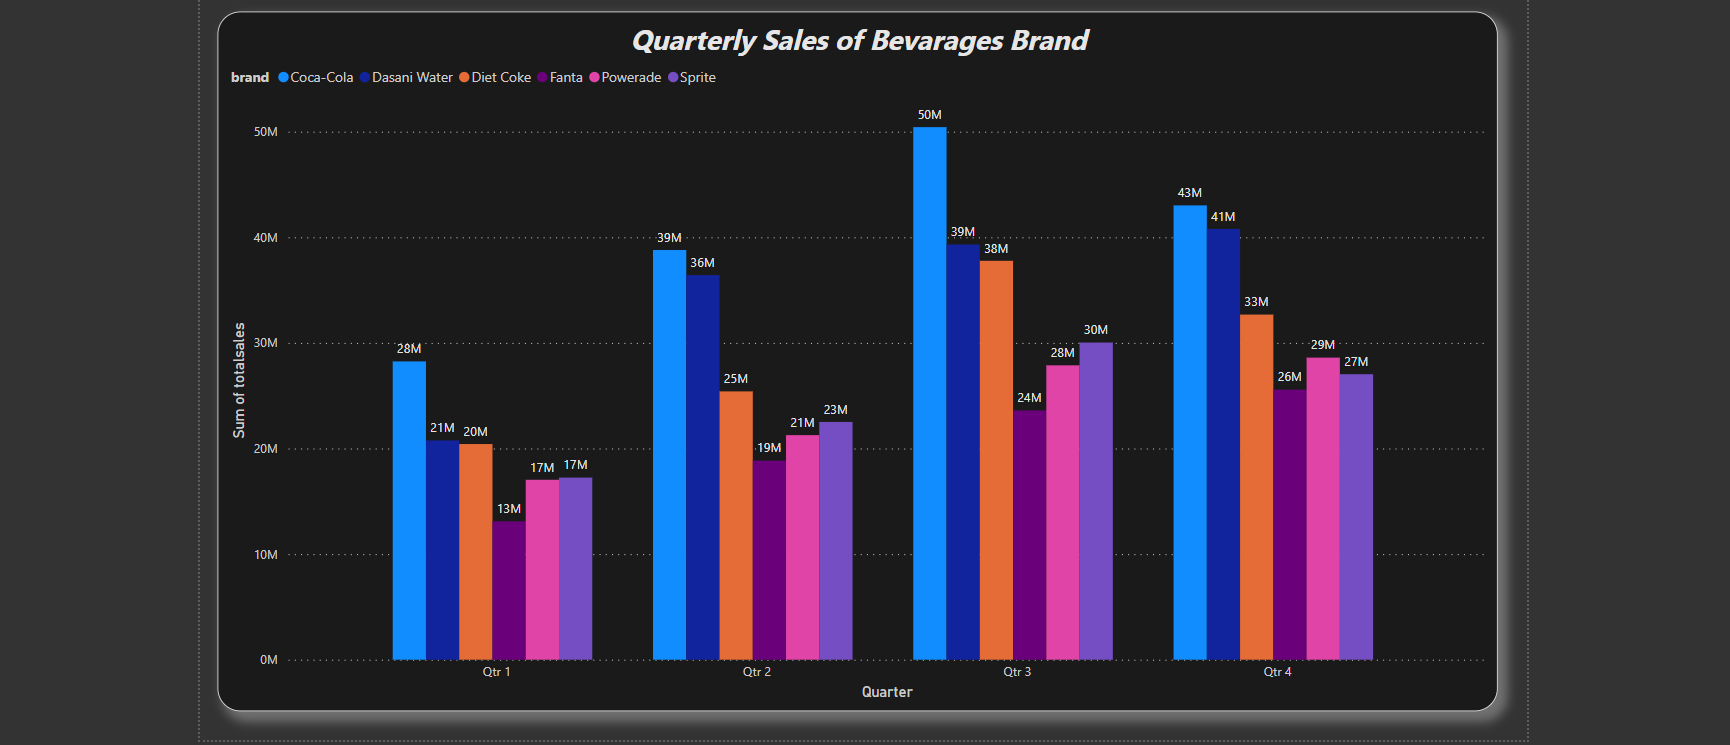

What the dashboard file says about the page in this screenshot:
{"tool":"powerbi","page":{"name":"Page 4","canvas":[1280,720],"ordinal":3},"visuals":[{"type":"clusteredColumnChart","title":"Quarterly Sales of Bevarages Brand","fields":{"Category":["bv india.Date.Variation.Date Hierarchy.Quarter"],"Y":["Sum(bv india.totalsales)"],"Series":["bv india.brand"]},"box":[16.5,16.5,1235,675.1],"z":0}]}

Visuals, with their boxes on the page's 1280x720 design canvas (x1, y1, x2, y2). These are canvas units, not pixel positions in the 1730x745 screenshot, which may show the page scaled, cropped or inside an application window:
"Quarterly Sales of Bevarages Brand" clusteredColumnChart: 16, 16, 1252, 692
